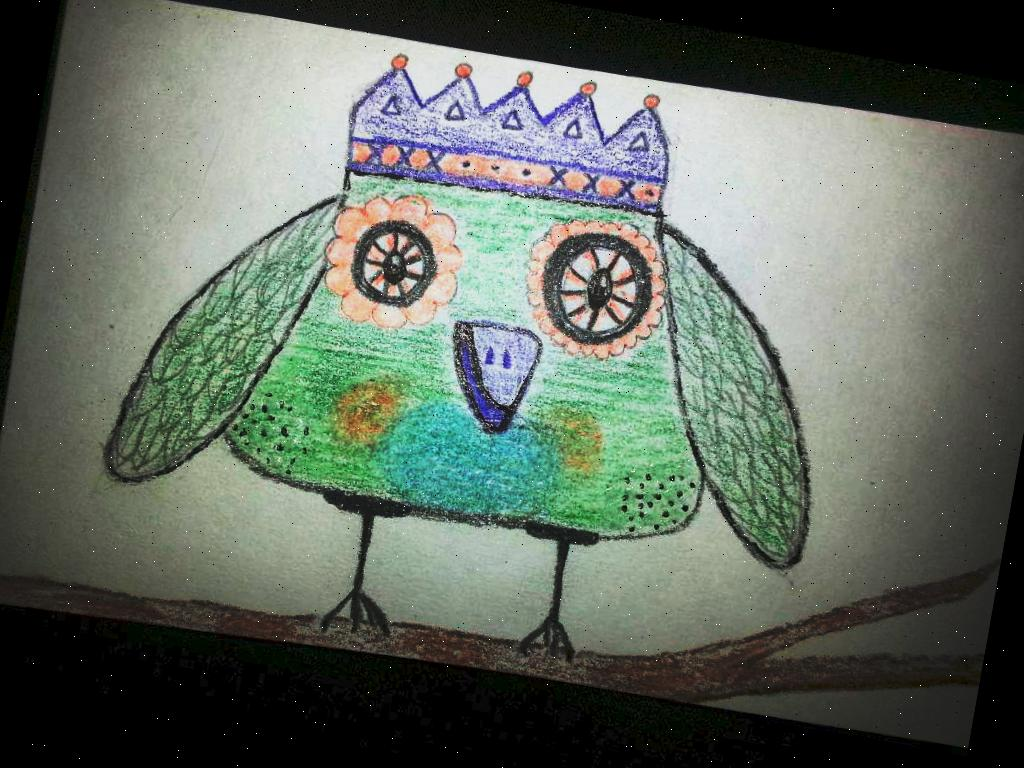Owl: (69, 0, 881, 710)
